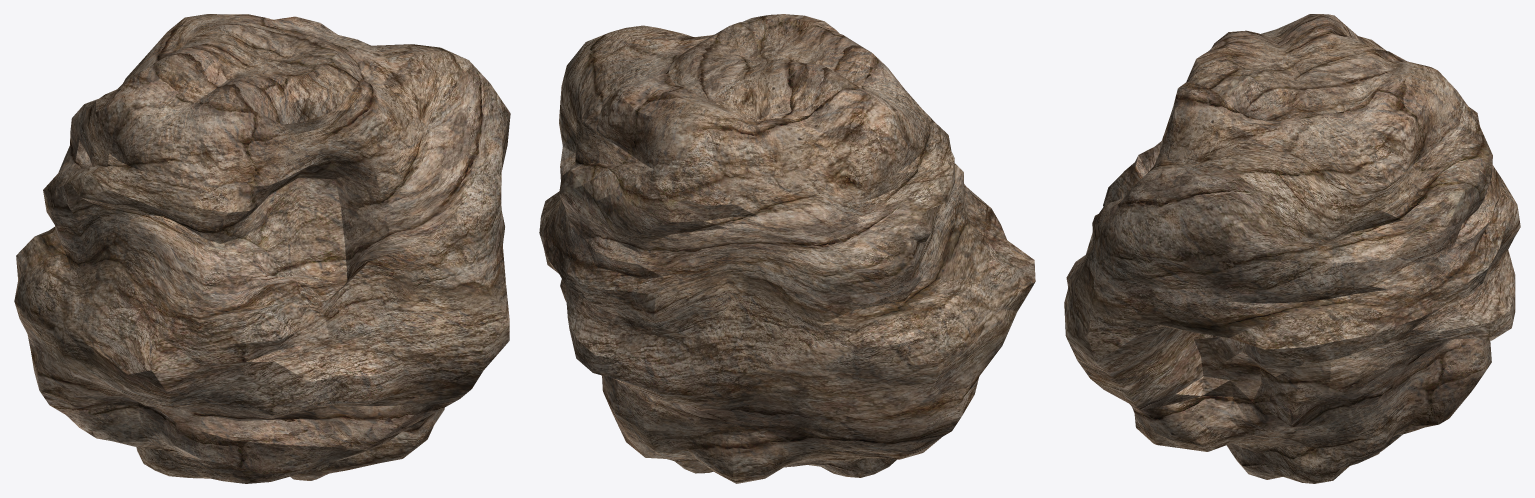
Rendered from RockLargeRound_LOD0.obj.
The picture shows the model from 3 angles, left to right: view 1: azimuth 30°, elevation 25°; view 2: azimuth 150°, elevation 25°; view 3: azimuth 270°, elevation 25°; orthographic projection. The views are drawn at different scales.
Visible parts, largest first — view 1: RockLargeRound_LOD0; view 2: RockLargeRound_LOD0; view 3: RockLargeRound_LOD0.
Boxes of the visible parts, <box> form: RockLargeRound_LOD0: <box>14,14,510,483</box>; RockLargeRound_LOD0: <box>539,14,1035,483</box>; RockLargeRound_LOD0: <box>1064,14,1520,483</box>.
Size of the model in its own units: 5.44 by 4.88 by 5.12.
